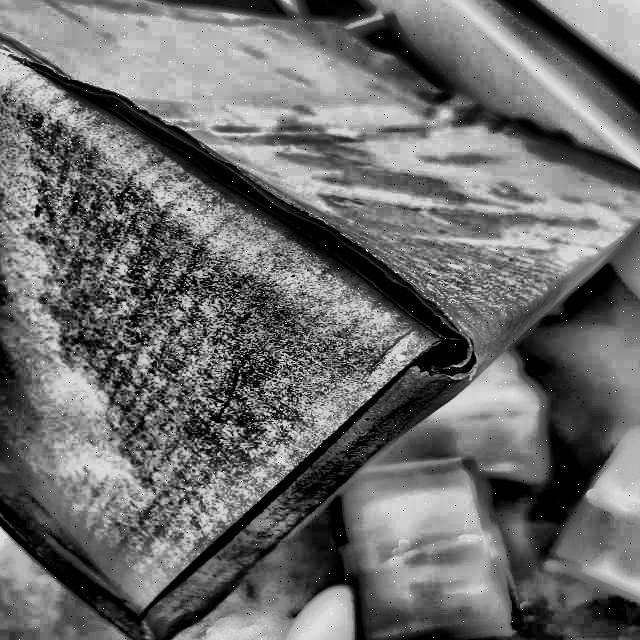box: (1, 0, 639, 639)
wet: (46, 104, 533, 516)
